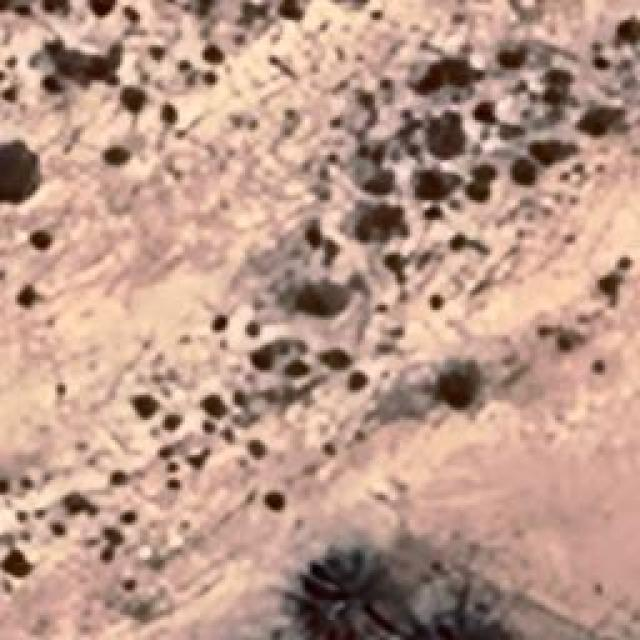PalmTree: (102, 42, 462, 619), (80, 75, 350, 598)
